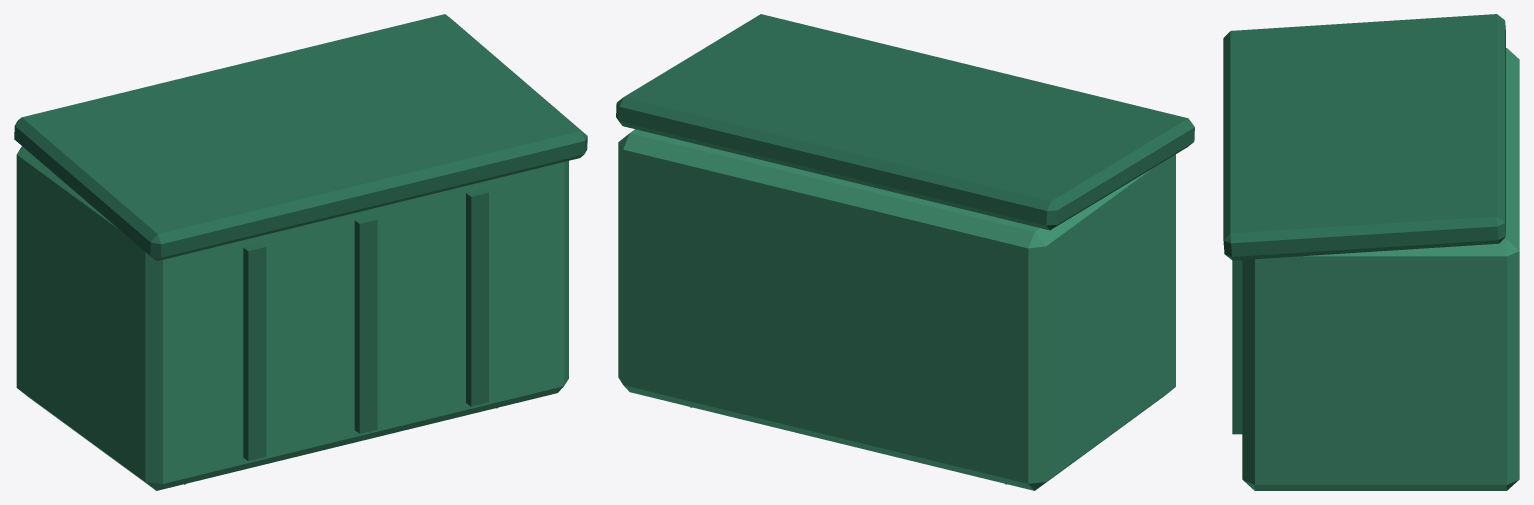
File: hd_dumpster.gltf
The picture shows the model from 3 angles, left to right: view 1: azimuth 30°, elevation 25°; view 2: azimuth 150°, elevation 25°; view 3: azimuth 270°, elevation 25°; orthographic projection. The views are drawn at different scales.
Parts seen in each view (by area): view 1: body, lid, rib-0.5, rib0, rib0.5; view 2: body, lid; view 3: body, lid, rib0.5.
Part boxes in pixels (bbox=[...]): body: bbox=[16, 146, 568, 490]; lid: bbox=[14, 14, 587, 261]; rib-0.5: bbox=[243, 243, 266, 460]; rib0: bbox=[354, 216, 377, 433]; rib0.5: bbox=[466, 189, 488, 406]; body: bbox=[618, 129, 1175, 490]; lid: bbox=[616, 14, 1194, 230]; body: bbox=[1242, 48, 1519, 490]; lid: bbox=[1223, 14, 1505, 260]; rib0.5: bbox=[1232, 260, 1242, 434].
Bounding box in the file's own units: 1.96 × 1.3 × 1.17.
